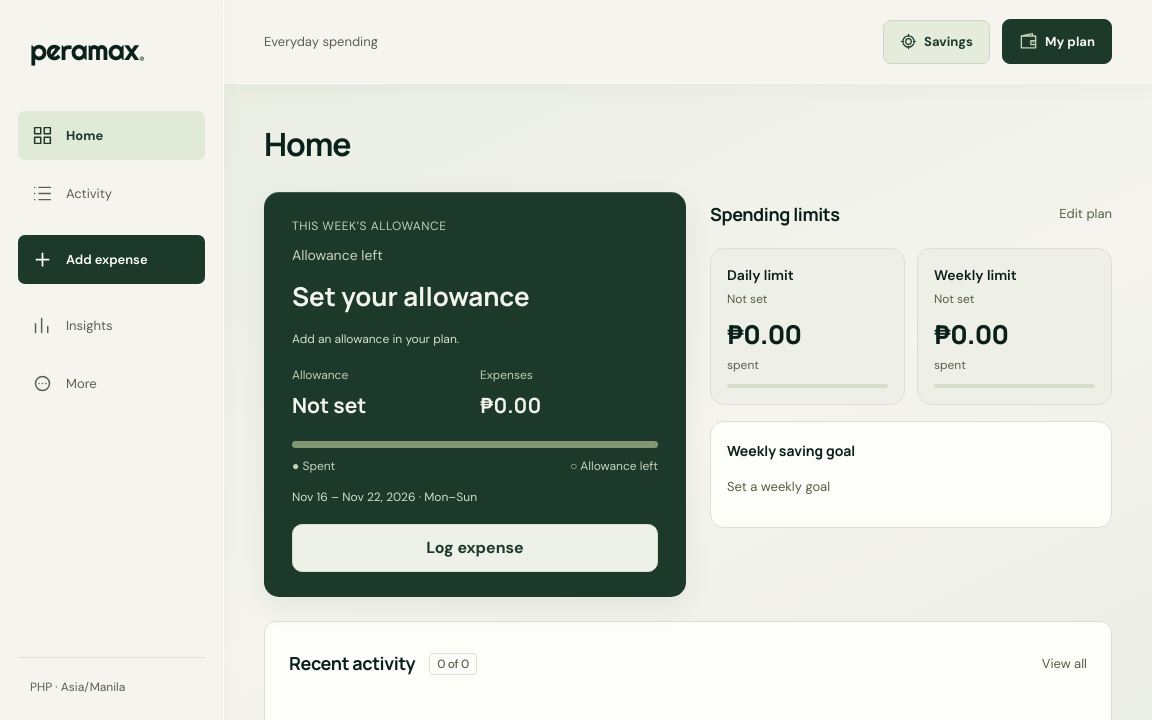
daily-use UX › allows closing the savings hub after returning from an unsaved goal
Click the button "Savings" at [937, 42], box [883,20,990,64]
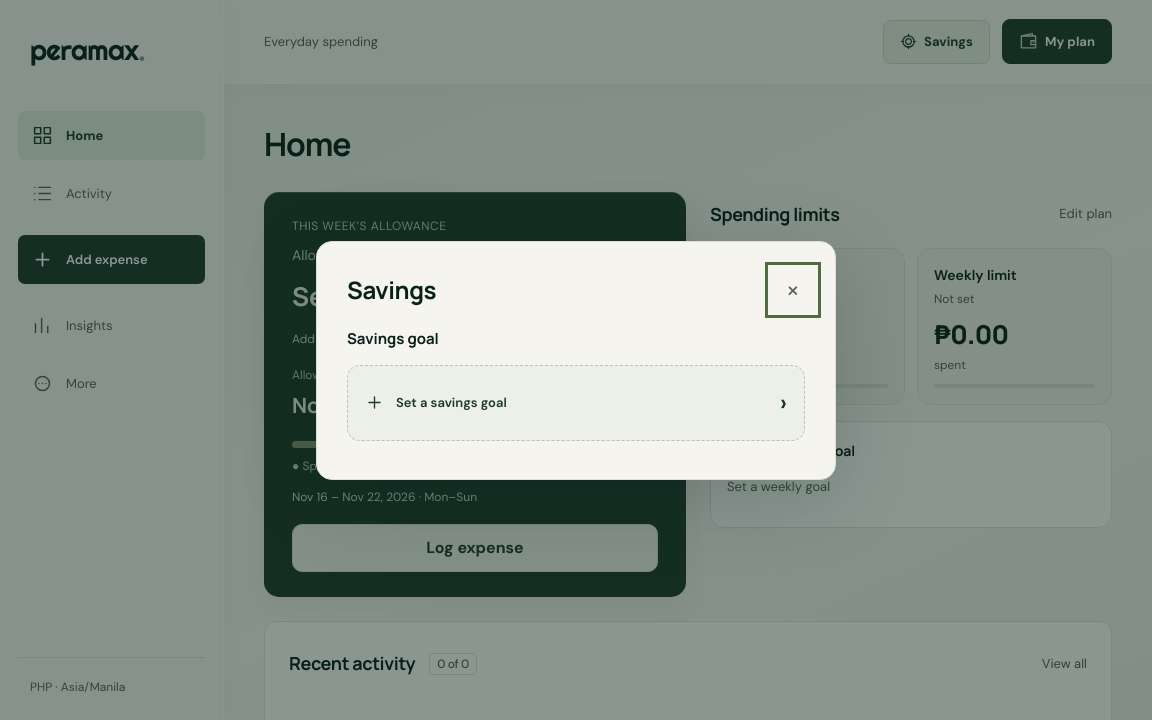
Click the button "Set a savings goal ›" at [451, 402], box [347,364,805,440]
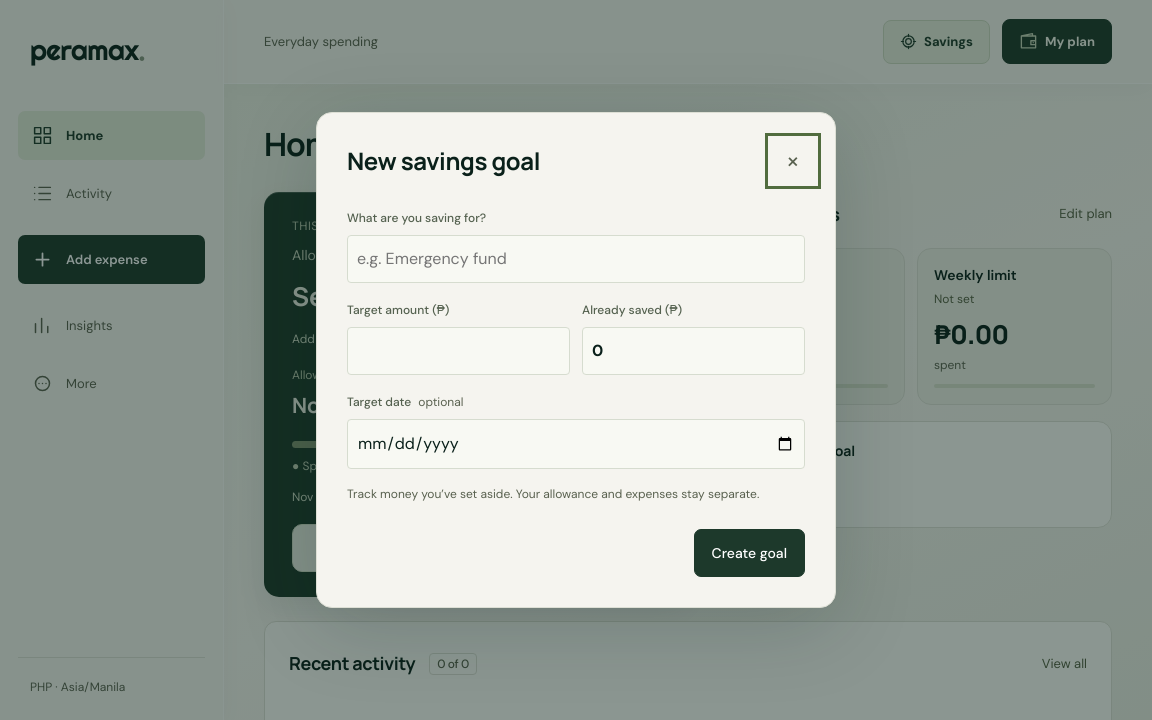
Type "Bike" into the field labelled "What are you saving for?" at [576, 259], box [347,235,805,283]
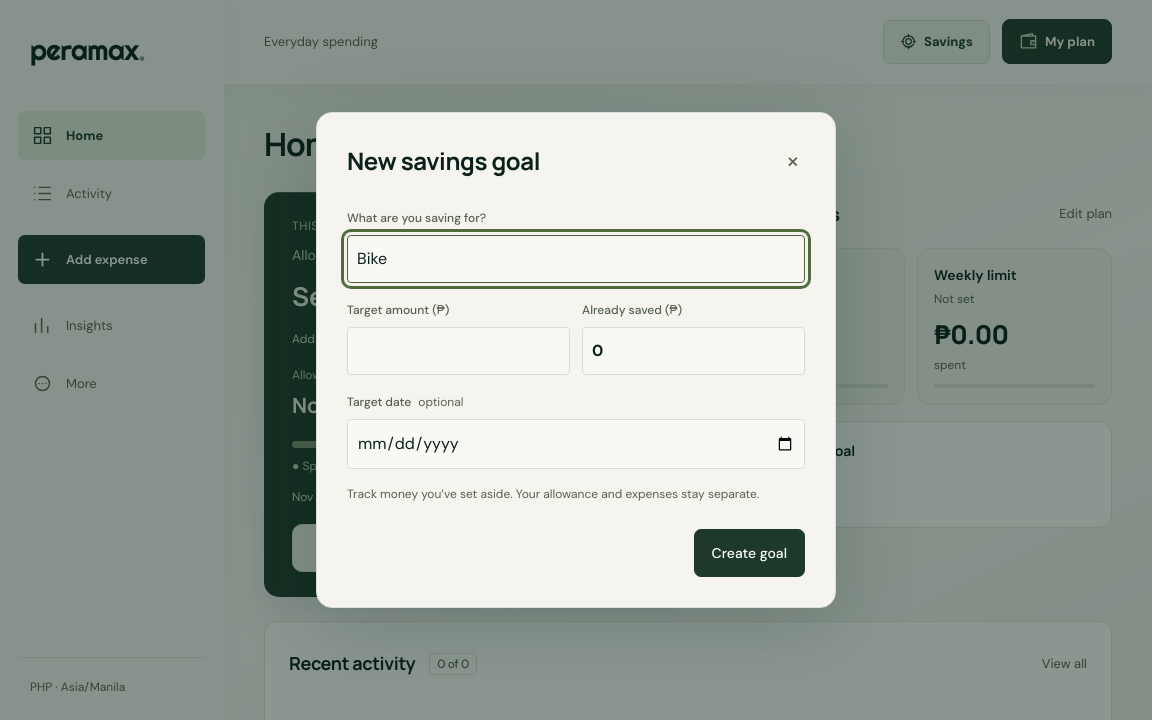
Click the button named "Close dialog" at [793, 161], box [771,139,815,183]
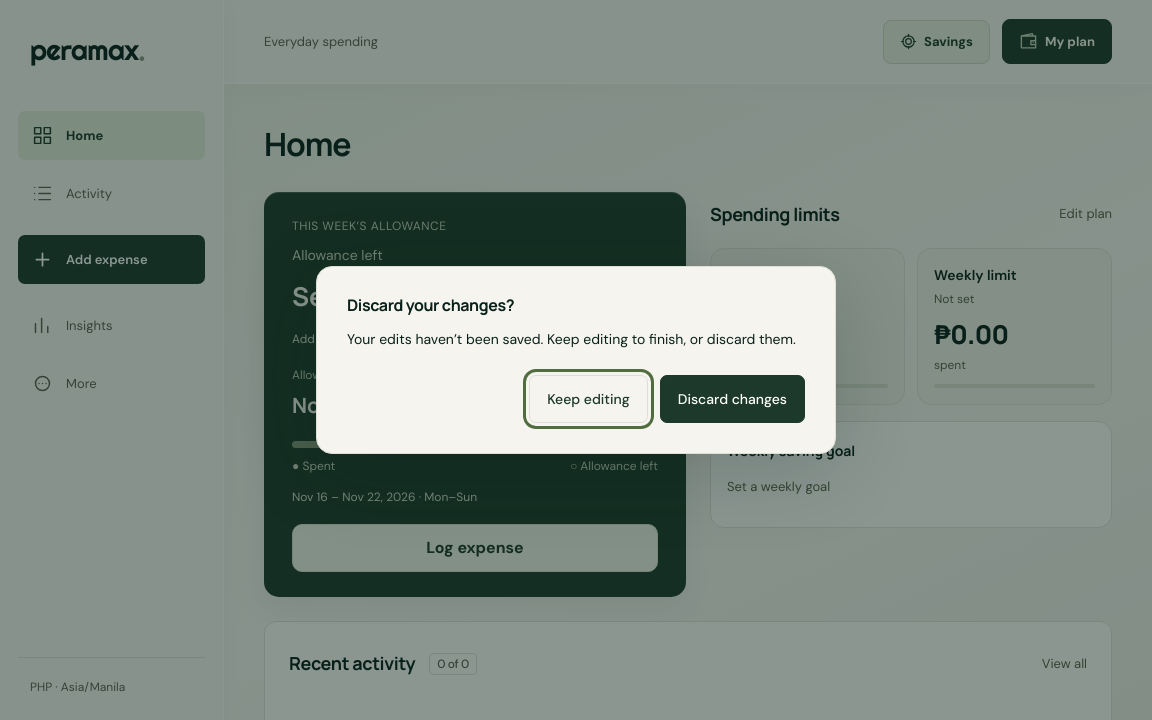
Click the button "Discard changes" at [732, 399], box [660,375,805,423]
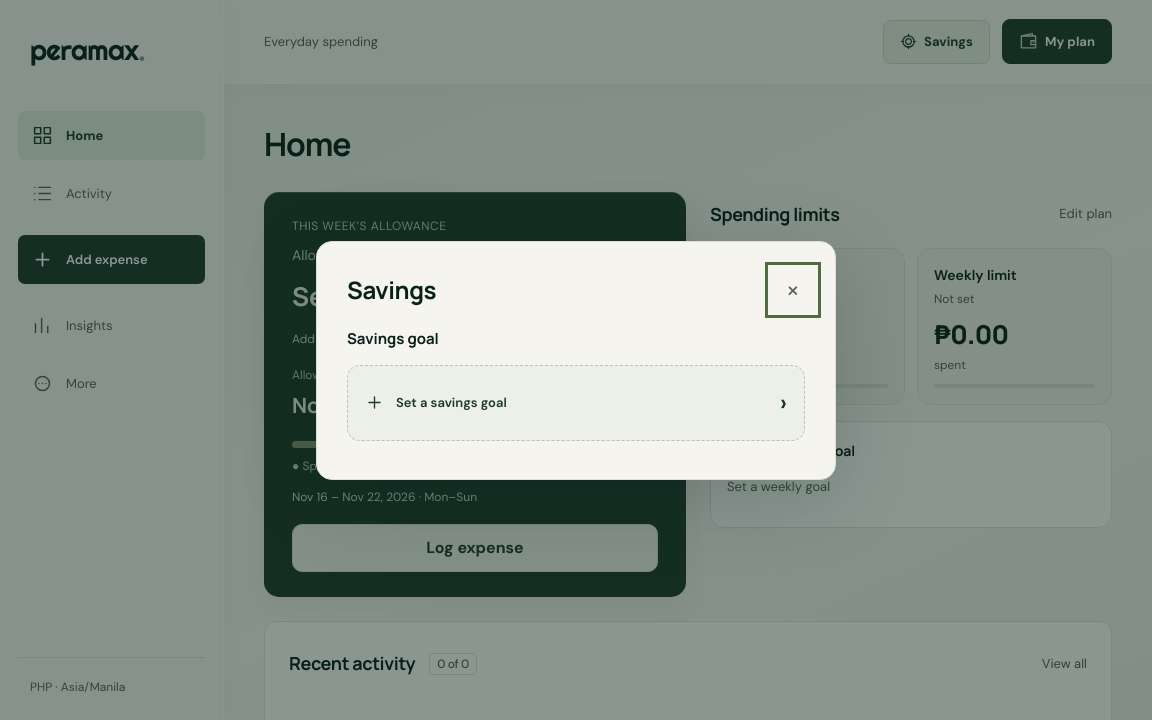
expect the heading "Savings" is shown: met, box [347,272,436,308]
Click the button named "Close dialog" at [793, 290], box [771,268,815,312]
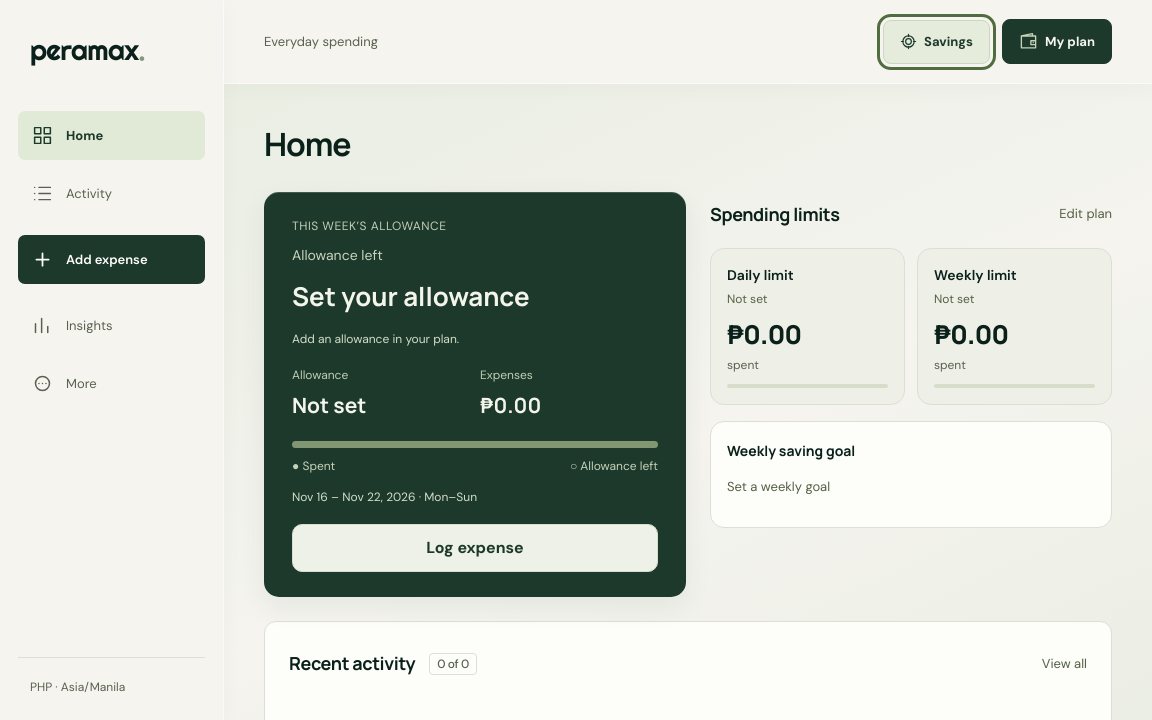
expect the dialog is gone: met
